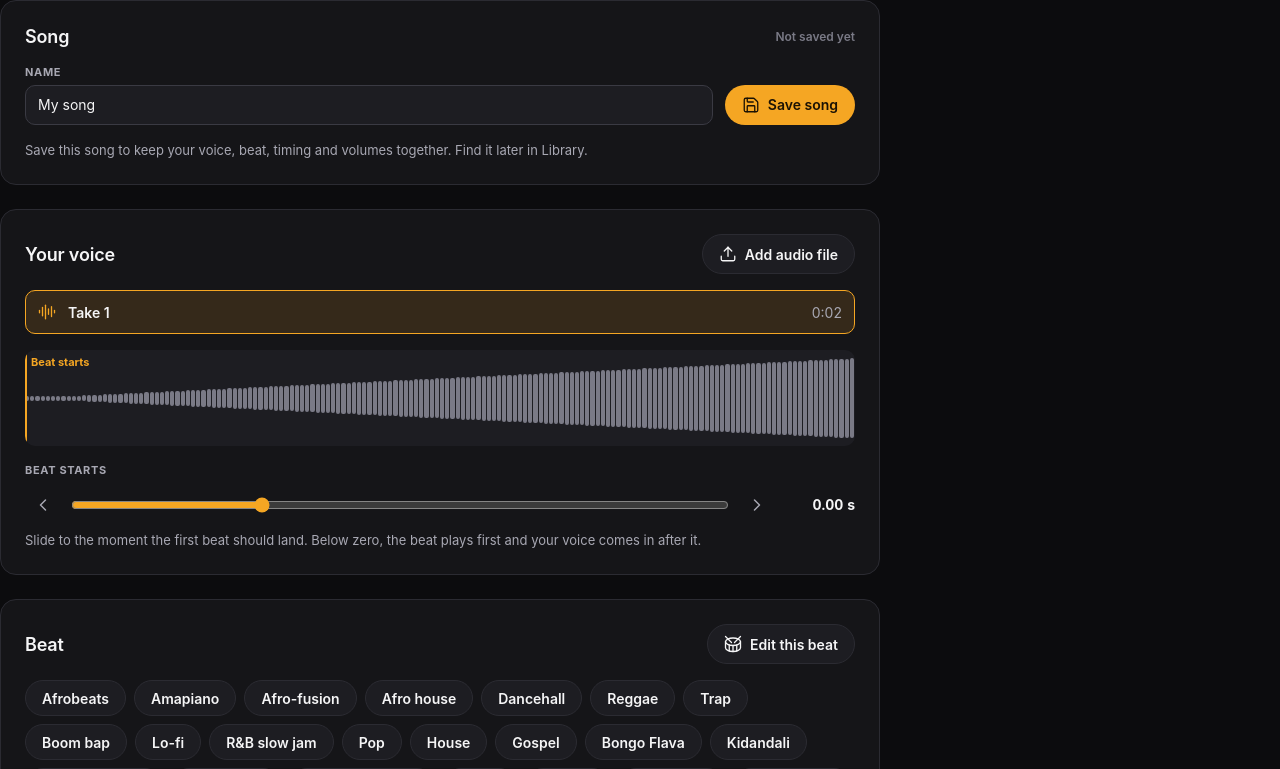
lining the beat up with the voice › nudge buttons move the beat start in hundredths of a second
Check: the text "0.00 s" is shown, box [812,496,855,513]
What coordinates should you click on to do the following:
click the button named "Beat later"
I would click on:
 (757, 505)
Its box is [739,487,775,523].
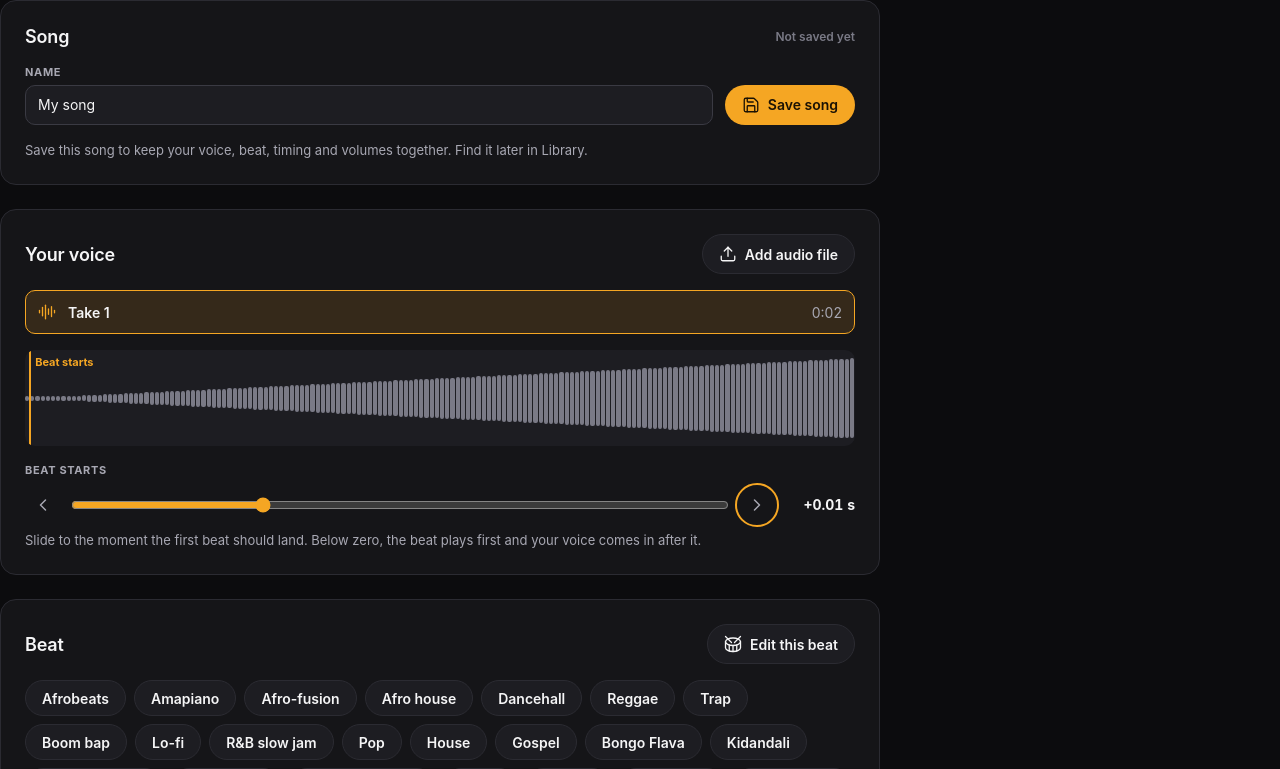
Check: the text "+0.01 s" is shown, box [803,496,855,513]
What coordinates should you click on to do the following:
click the button named "Beat earlier"
I would click on:
 (43, 505)
Its box is [25,487,61,523].
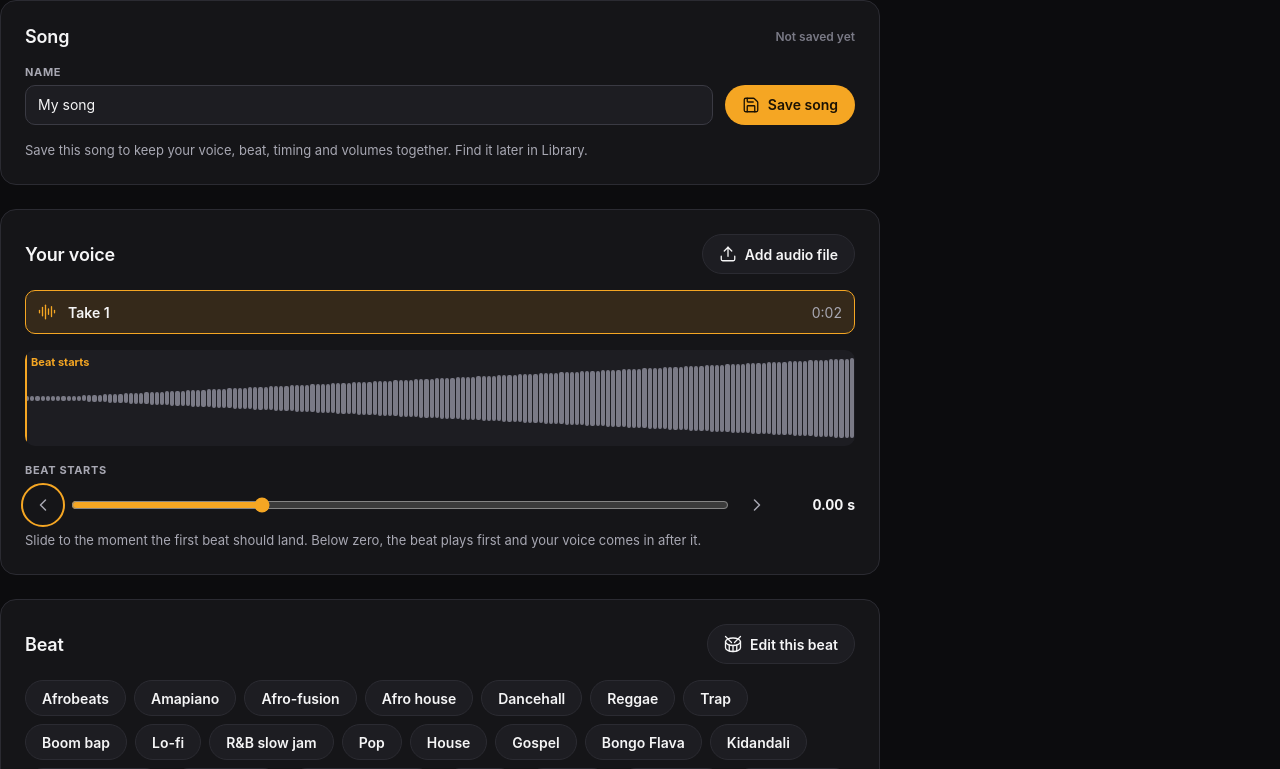
What coordinates should you click on to do the following:
click the button named "Beat earlier"
I would click on:
 (43, 505)
Its box is [25,487,61,523].
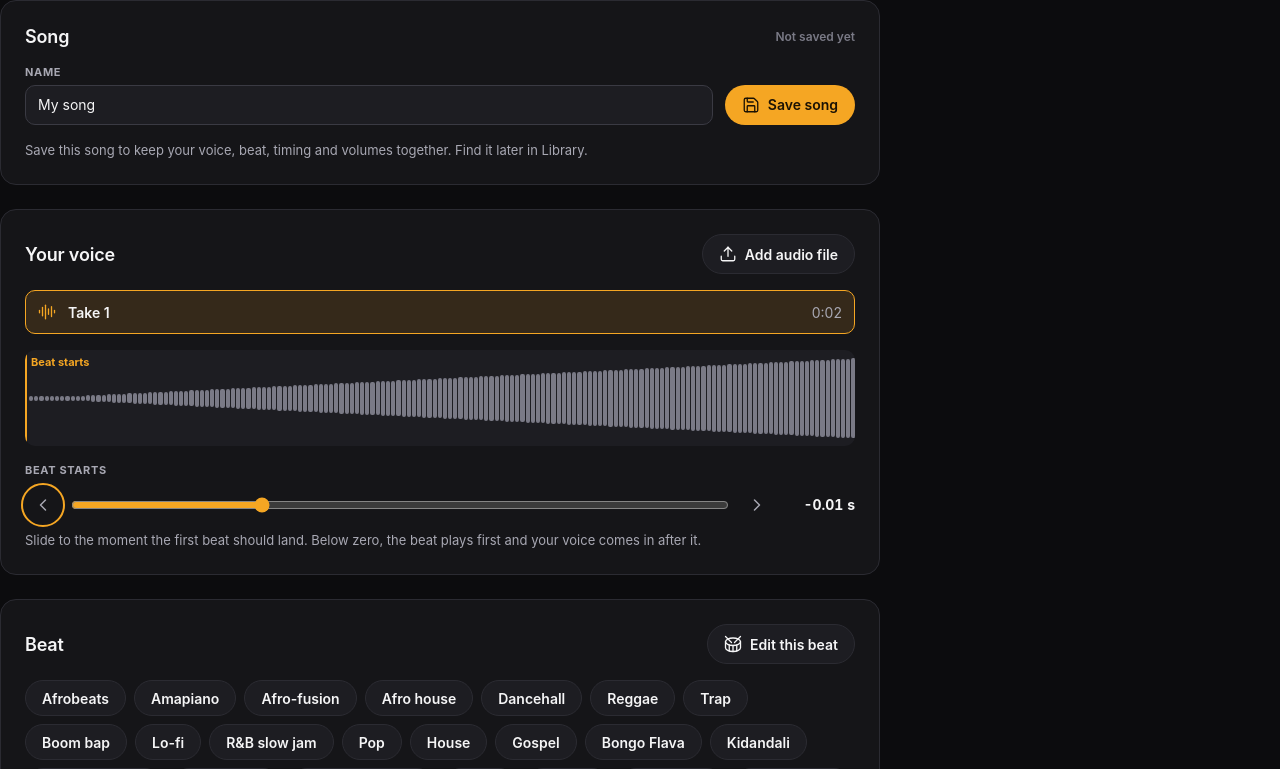
Check: the text "-0.01 s" is shown, box [803,496,855,513]
